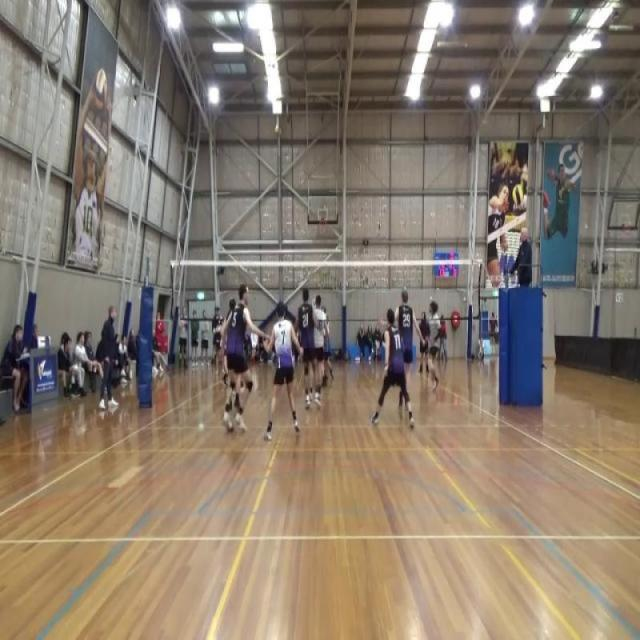volleyball: (94, 68, 108, 112), (512, 182, 524, 206), (274, 125, 280, 136)
